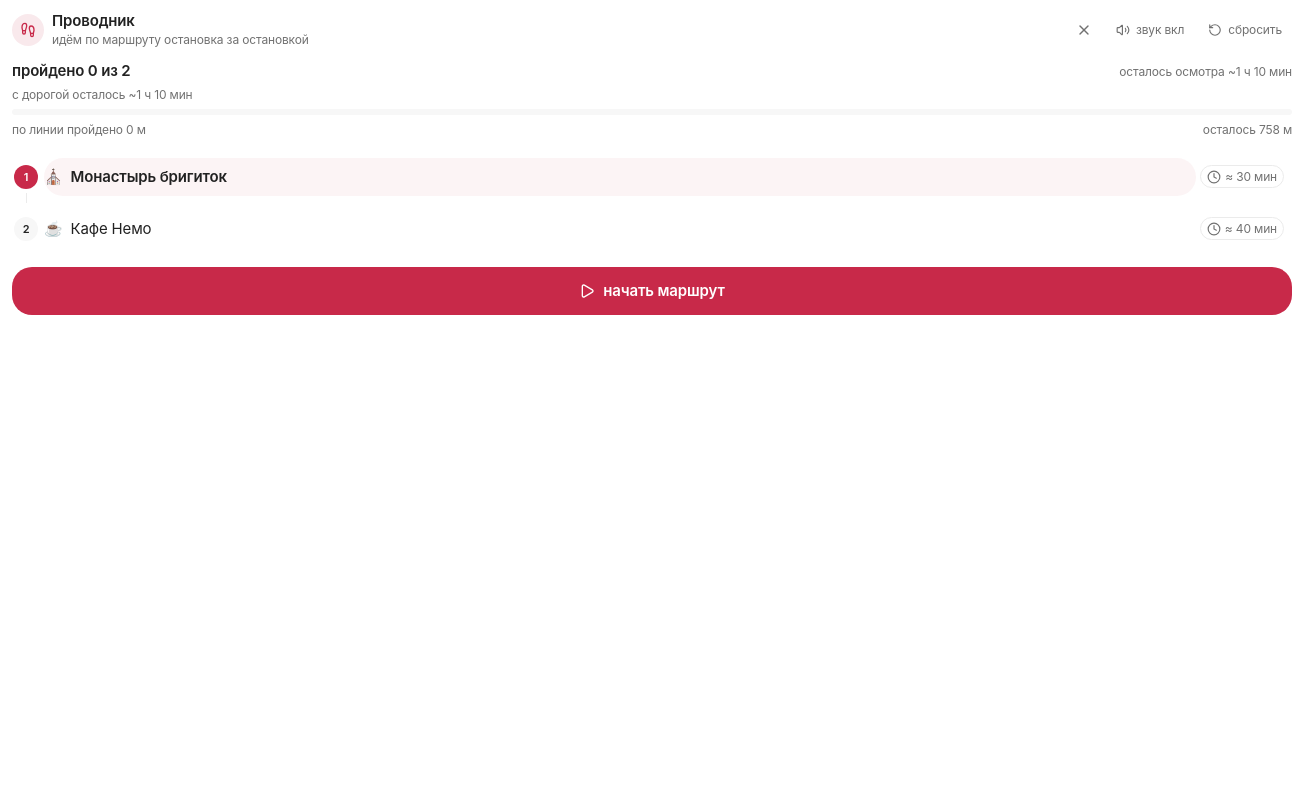
Test case: GuidePanel · режим движения › shows the next manoeuvre with a distance on a good fix
The width and height of the screenshot is (1304, 812).
Step 1. Click the button with test id "guide-start" → (652, 291), box [12,267,1292,315]
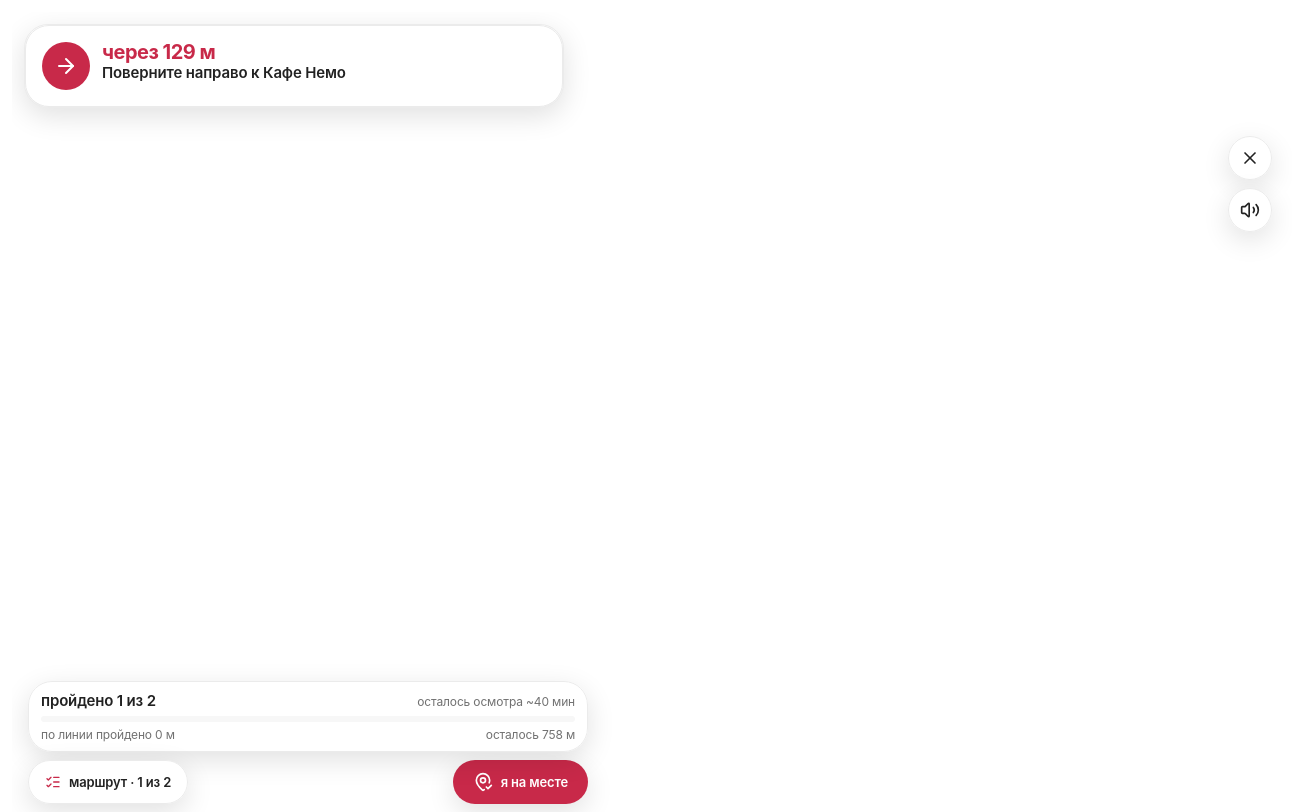
Expected: the text with test id "guide-maneuver-instruction" reads "Поверните направо к Кафе Немо", [102,63,346,82]
Expected: the text with test id "guide-maneuver-distance" reads "через 129 м", [102,40,215,64]
